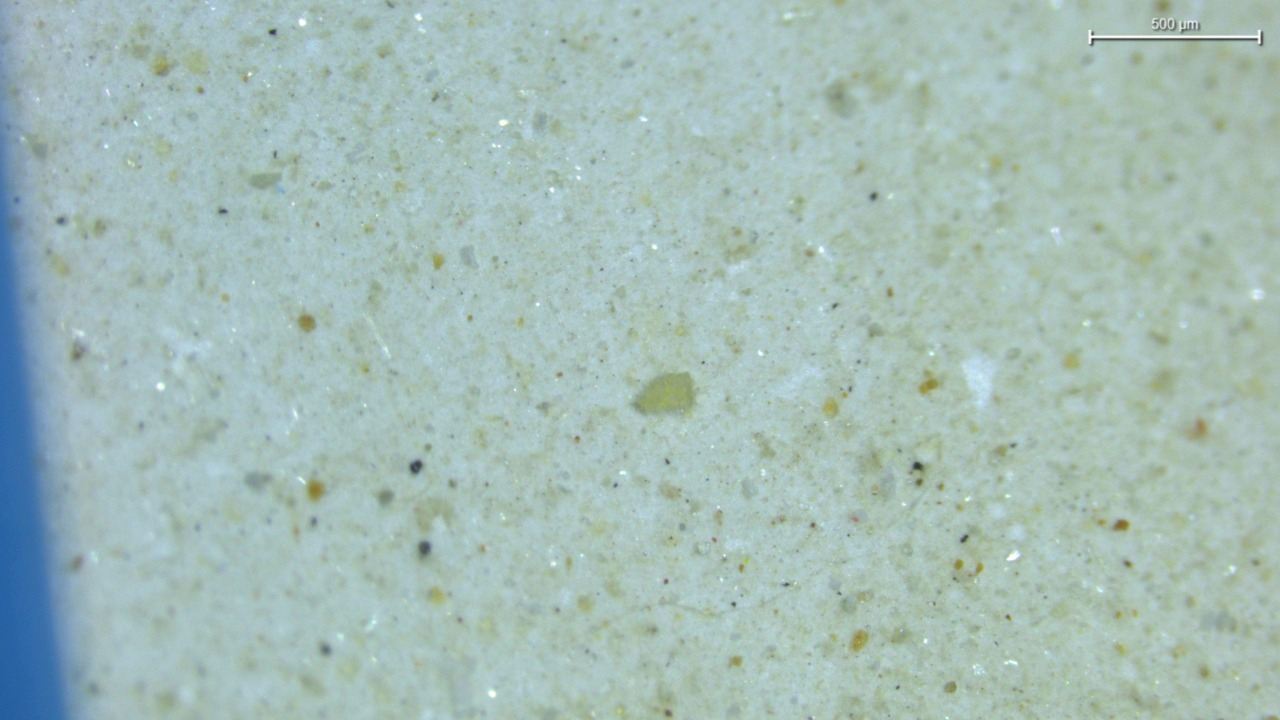microplastic_fragment: (633, 372, 694, 414)
